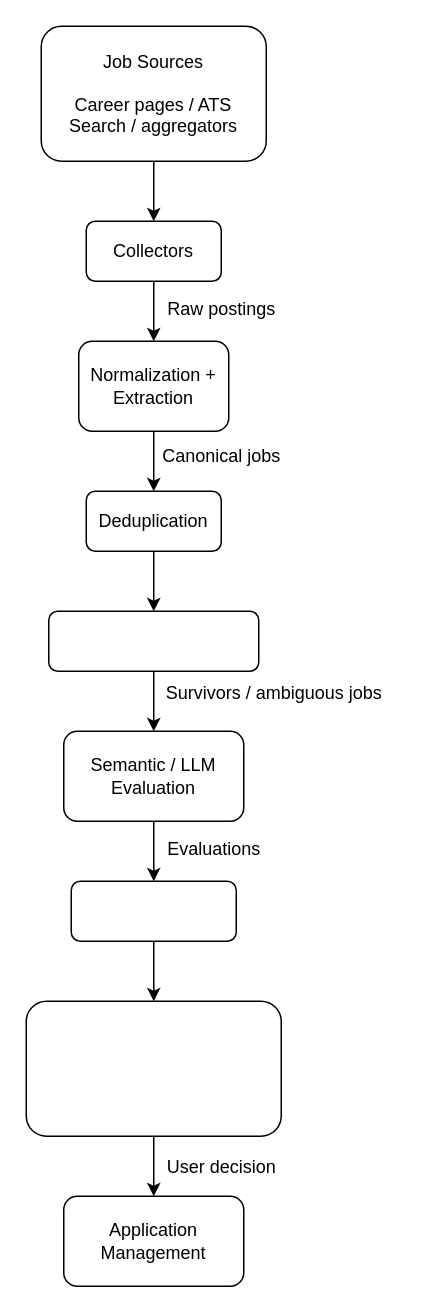
Some shapes in this 428 by 1313 pixel diagram are drawn without their labels. The centre of each missing label's shape, as x and y in pixels:
Dashboard Inbox / Review / Analytics Applications / Companies: the point at 153,1068
Deterministic Filtering: the point at 153,640
Ranking Engine: the point at 153,910
